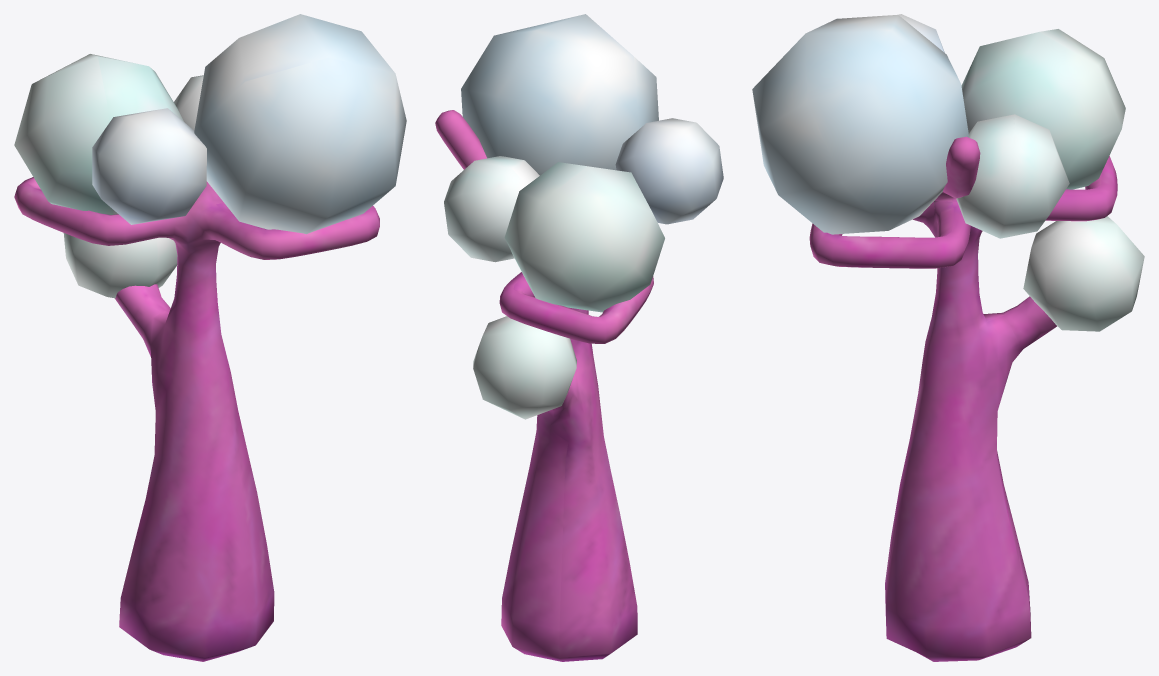
The model's file is mgcrs_A-Tree.fbx.
3 renders of one model, left to right at view 1: azimuth 30°, elevation 25°; view 2: azimuth 150°, elevation 25°; view 3: azimuth 270°, elevation 25°, orthographic. The views are drawn at different scales.
Visible parts, largest first — view 1: A-Tree_LOD0; view 2: A-Tree_LOD0; view 3: A-Tree_LOD0.
Part boxes in pixels (box(x1,y1,x2,y2)): A-Tree_LOD0: box(14, 14, 406, 661); A-Tree_LOD0: box(435, 14, 723, 661); A-Tree_LOD0: box(752, 14, 1144, 661).
Size of what is drawn, in the model's own units: 748 by 1609 by 885.
Materials: 1 (1 with a texture image).
